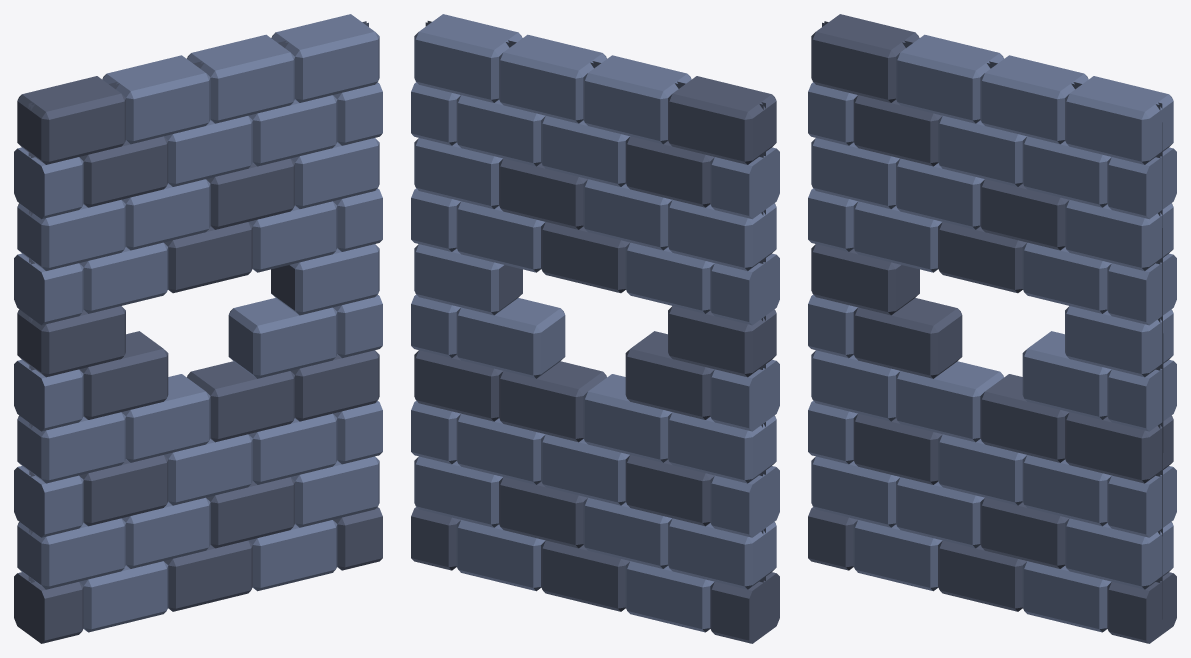
File: wall_005.glb
3 renders of one model, left to right at view 1: azimuth 30°, elevation 25°; view 2: azimuth 150°, elevation 25°; view 3: azimuth 330°, elevation 25°, orthographic.
Parts seen in each view (by area): view 1: wall.005; view 2: wall.005; view 3: wall.005.
Boxes of the visible parts, box(x1,y1,x2,y2) form: wall.005: box(14, 14, 382, 643); wall.005: box(411, 14, 779, 643); wall.005: box(808, 14, 1176, 643).
Bounding box in the file's own units: 2.01 × 3 × 0.3126.
